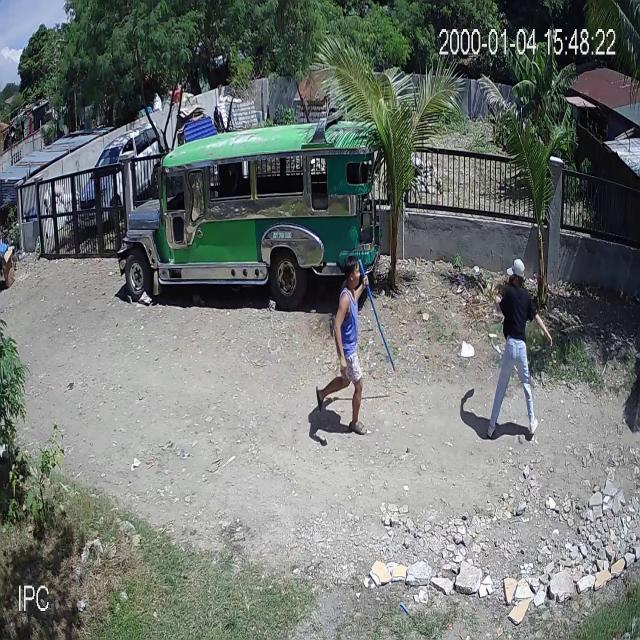running: (316, 252, 397, 433), (485, 259, 553, 440)
